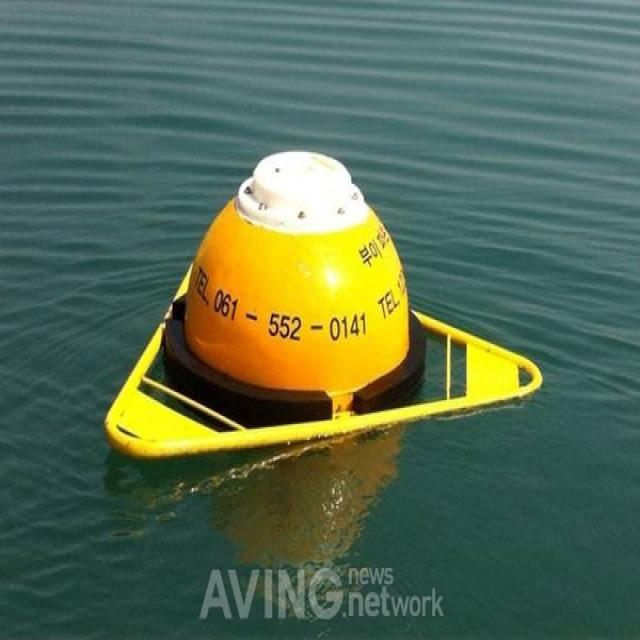marque: (88, 91, 554, 491)
